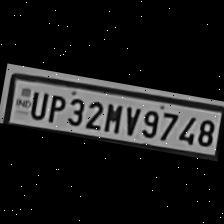2: (82, 96, 106, 130)
3: (63, 92, 87, 127)
4: (174, 111, 199, 145)
7: (155, 107, 178, 141)
8: (192, 114, 216, 147)
9: (136, 104, 160, 138)
M: (100, 99, 124, 134)
P: (43, 90, 66, 124)
U: (25, 86, 48, 120)
V: (120, 102, 140, 136)
